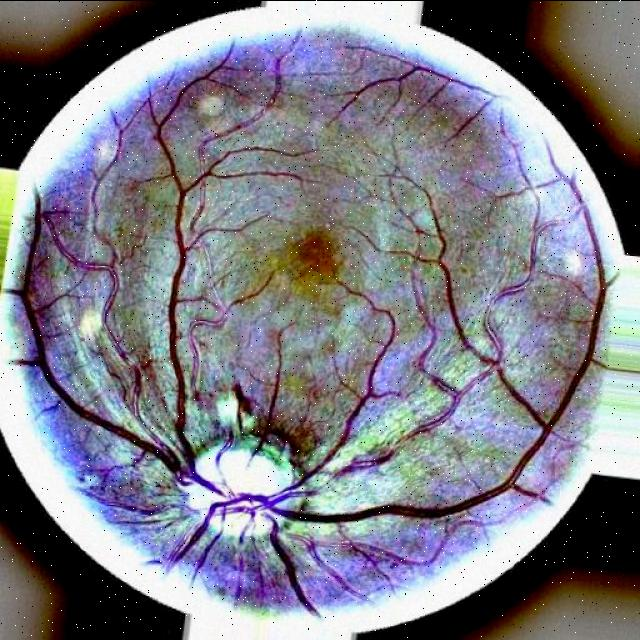Macula: (291, 230, 339, 276)
Nerves: (5, 48, 608, 615), (332, 55, 480, 119)
Optic Disk: (181, 434, 306, 538)
